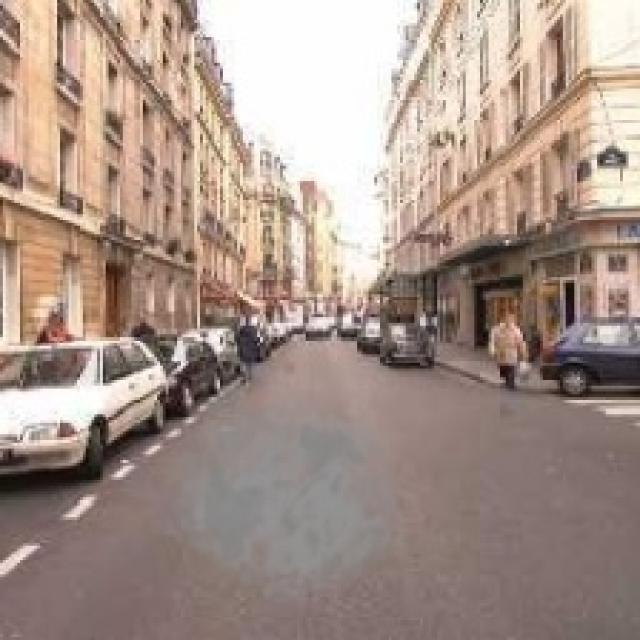smoke: (148, 374, 412, 606)
